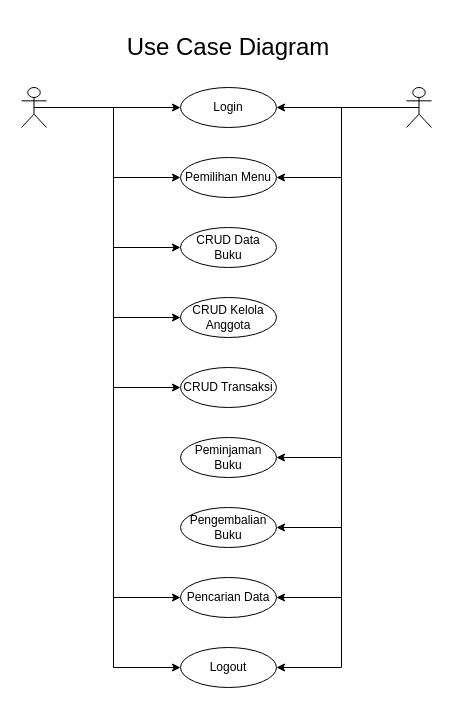
Some shapes in this 452 by 705 pixel diagram are drawn without their labels. The shapes that lost their labels are listed below. From the top down, each one's box as (x1, y1, x2, y2) in pixels, then its label:
(20, 86, 46, 128): Admin
(406, 86, 432, 128): Siswa
